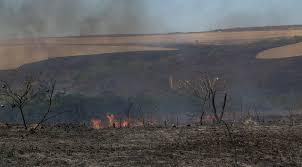fire: (108, 114, 128, 128), (87, 116, 102, 128)
